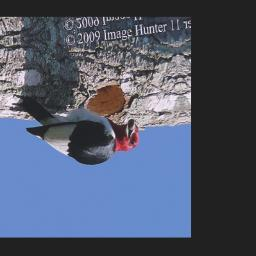Woodpecker: (7, 71, 149, 179)
